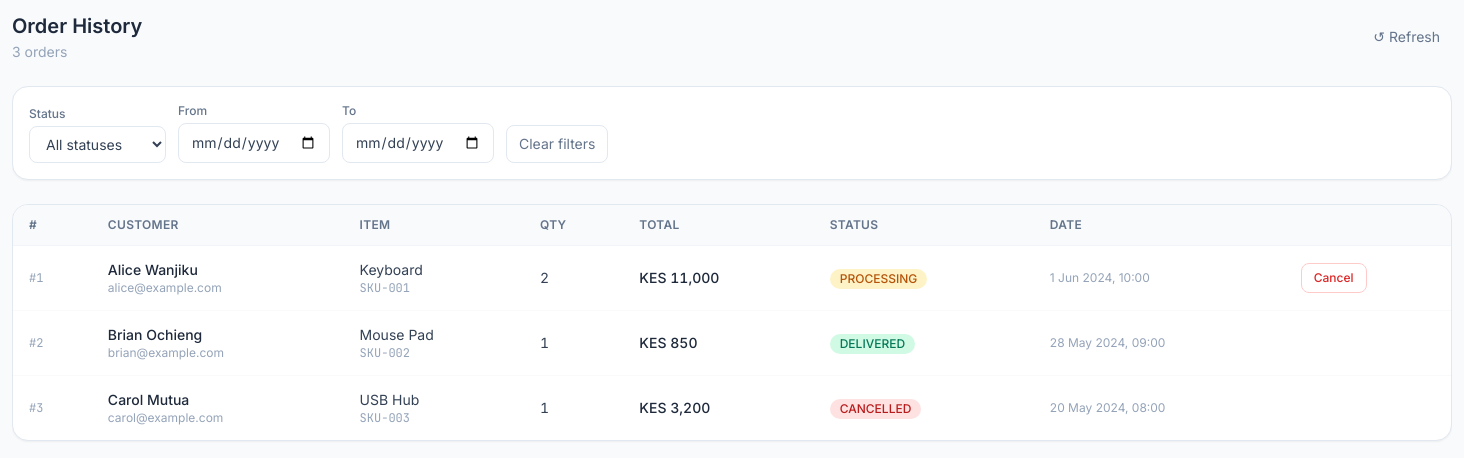
Test case: OrdersTab › shows error toast when cancel fails
The image size is (1464, 458).
Step 1. Click the button with aria-label "cancel order 1" → click(1334, 278), box 1301,263 -> 1366,293
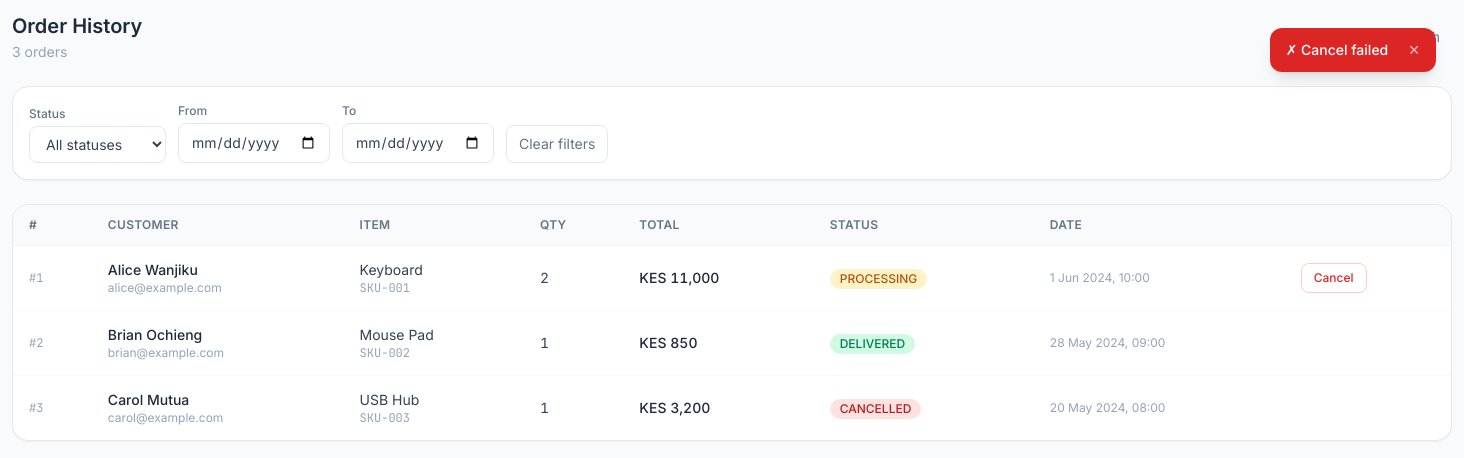
Now the text "✗ Cancel failed ✕" is shown, box 1270,28 -> 1436,72
